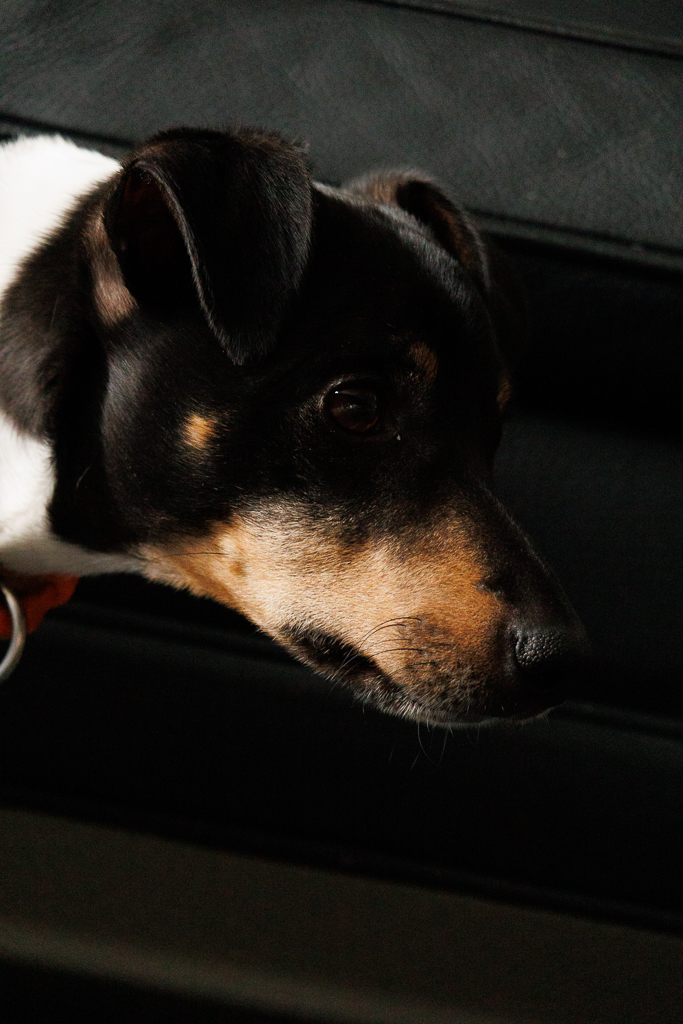Dog: (0, 121, 595, 737)
